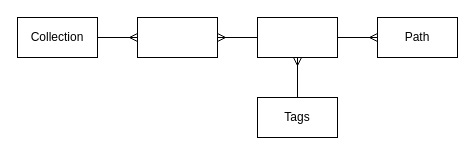
Image size: 475x155. Some labels were removed from this diagram. The shapes that lost their labels are listed below. From the top down, each one's centre as x and y in pixels, then its label:
At point (177, 37): "Membership".
At point (297, 37): "Resource".
